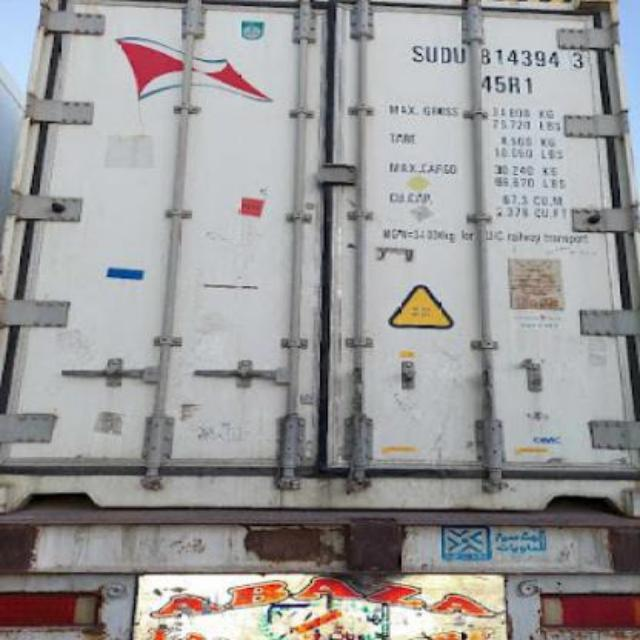1: (496, 47, 506, 67)
3: (520, 48, 534, 68), (574, 51, 584, 71)
4: (548, 50, 562, 70), (506, 44, 518, 66)
8: (480, 46, 492, 66)
9: (534, 50, 546, 66)
D: (438, 45, 452, 65)
S: (412, 43, 424, 63)
U: (452, 44, 468, 66), (424, 45, 440, 65)
